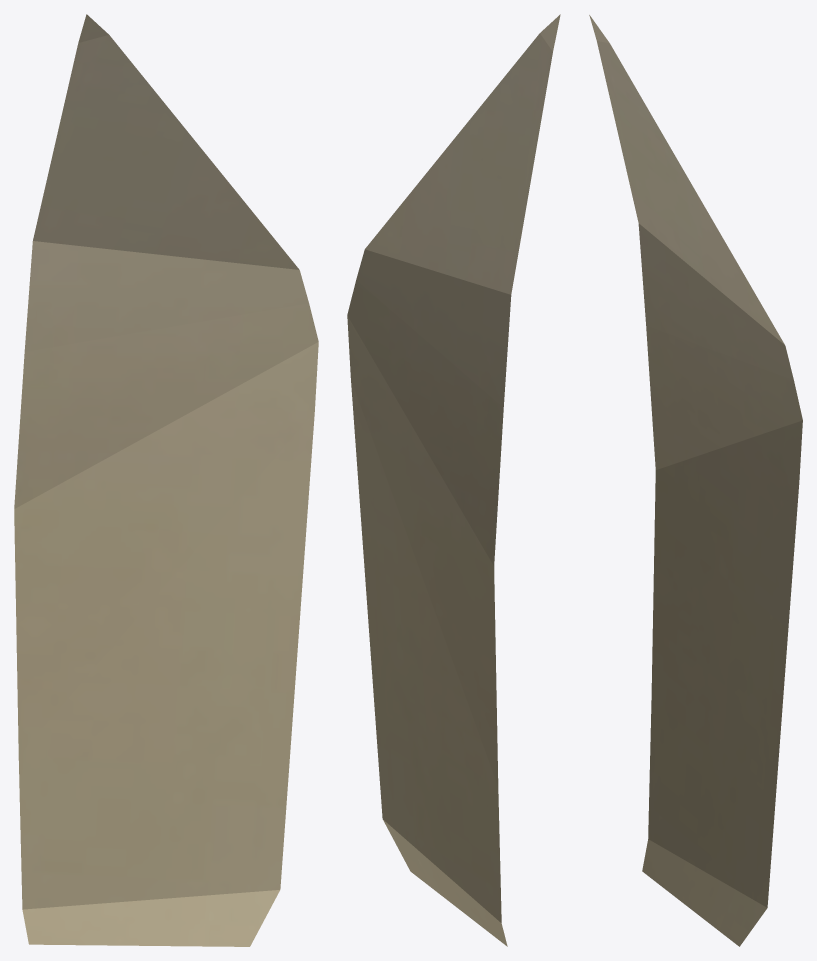
3 renders of one model, left to right at view 1: azimuth 30°, elevation 25°; view 2: azimuth 150°, elevation 25°; view 3: azimuth 330°, elevation 25°, orthographic. The views are drawn at different scales.
Size of the model in its own units: 0.3281 by 1.31 by 0.1772.
Materials: 1 (1 with a texture image).
